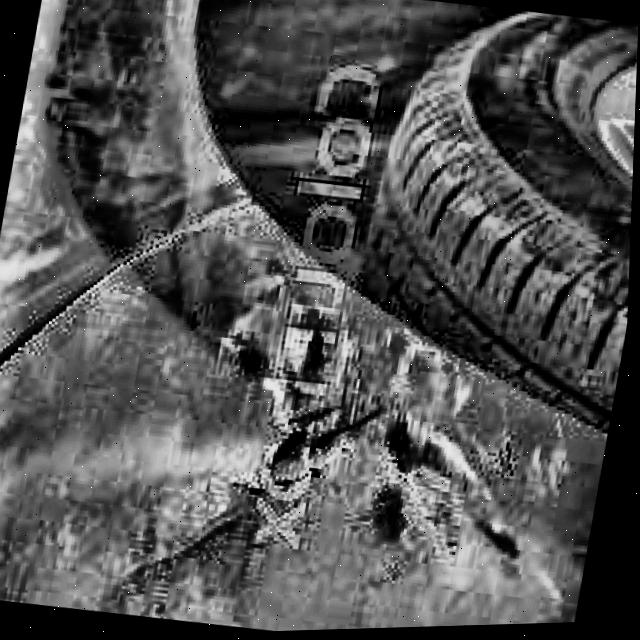bumper_scratch: (198, 283, 389, 515), (353, 373, 444, 574)
